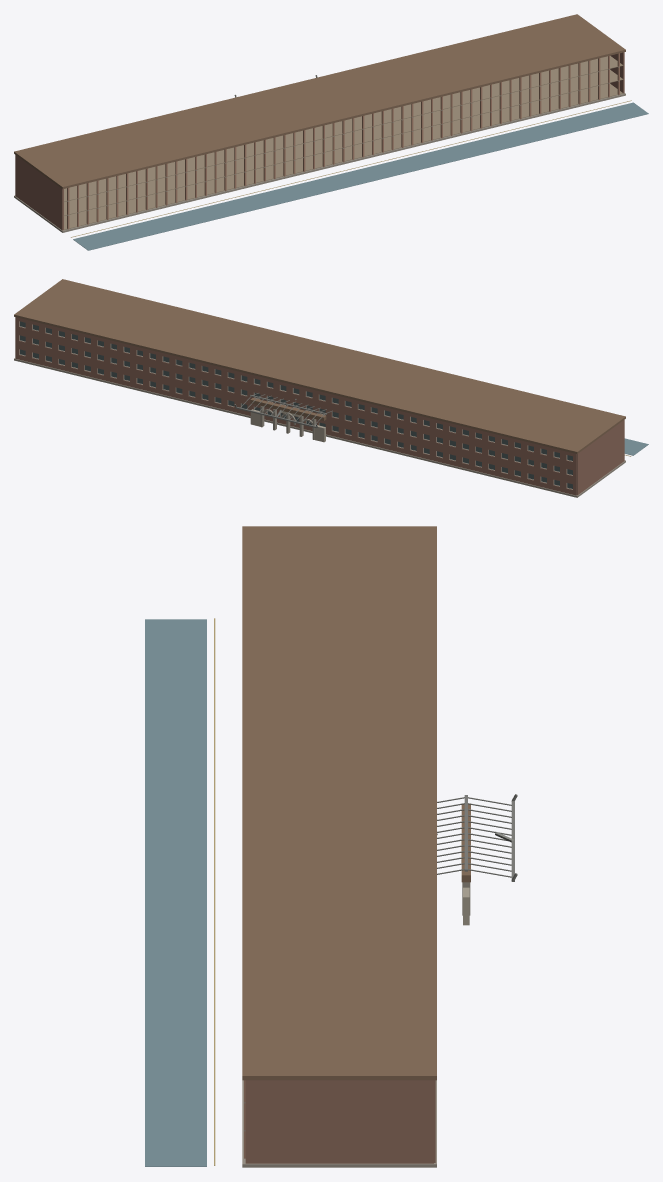
File: shanghai_machine_weaving_bureau.glb
3 renders of one model, top to bottom at view 1: azimuth 30°, elevation 25°; view 2: azimuth 150°, elevation 25°; view 3: azimuth 270°, elevation 25°, orthographic. The views are drawn at different scales.
Parts seen in each view (by area): view 1: geometry_0; view 2: geometry_0; view 3: geometry_0.
Part boxes in pixels (<box>): geometry_0: <box>14,14,648,250</box>; geometry_0: <box>14,279,648,497</box>; geometry_0: <box>145,526,517,1167</box>.
Size of the model in its own units: 168 by 13.19 by 48.25.
